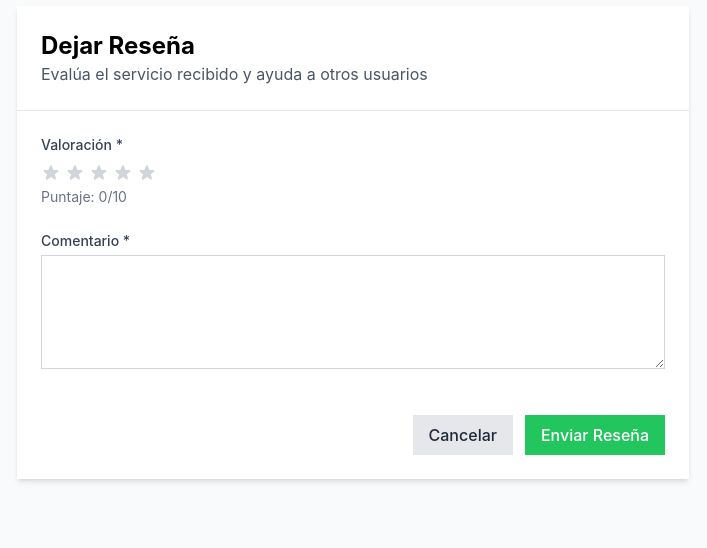
Test: Página de Creación de Reseña (CreateReviewPage) › debería mostrar errores de validación si el formulario está incompleto
Expected: the heading "Dejar Reseña" is shown, [41, 31, 195, 60]
Hacemos clic en enviar sin rellenar nada
Click the button "Enviar Reseña".
click(595, 435)  # box [525, 415, 665, 455]
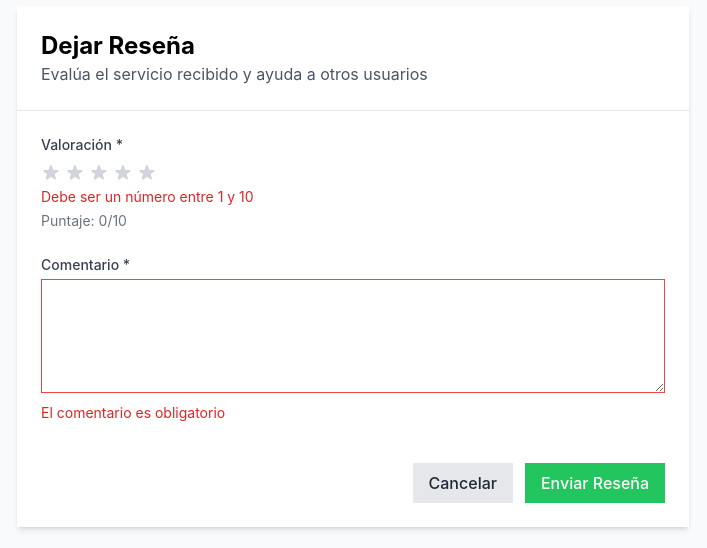
Result: the text "Debe ser un número entre 1 y 10" is shown at [41, 188, 254, 205]
Result: the text "El comentario es obligatorio" is shown at [41, 404, 225, 421]
